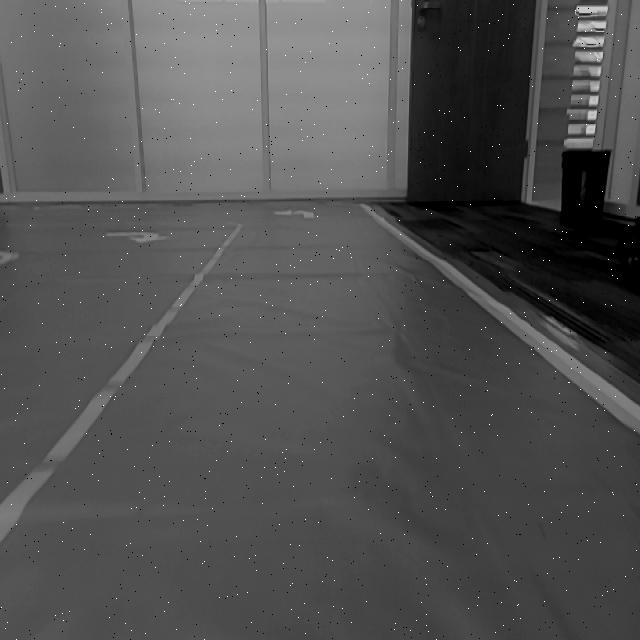left_lane: (0, 226, 240, 541)
right_lane: (363, 204, 640, 432)
